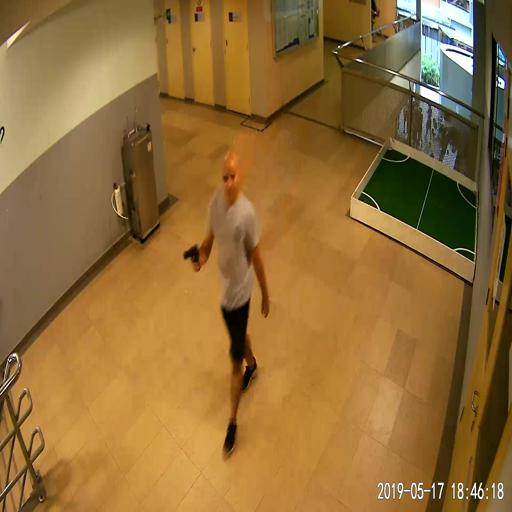pistol: (183, 243, 200, 271)
